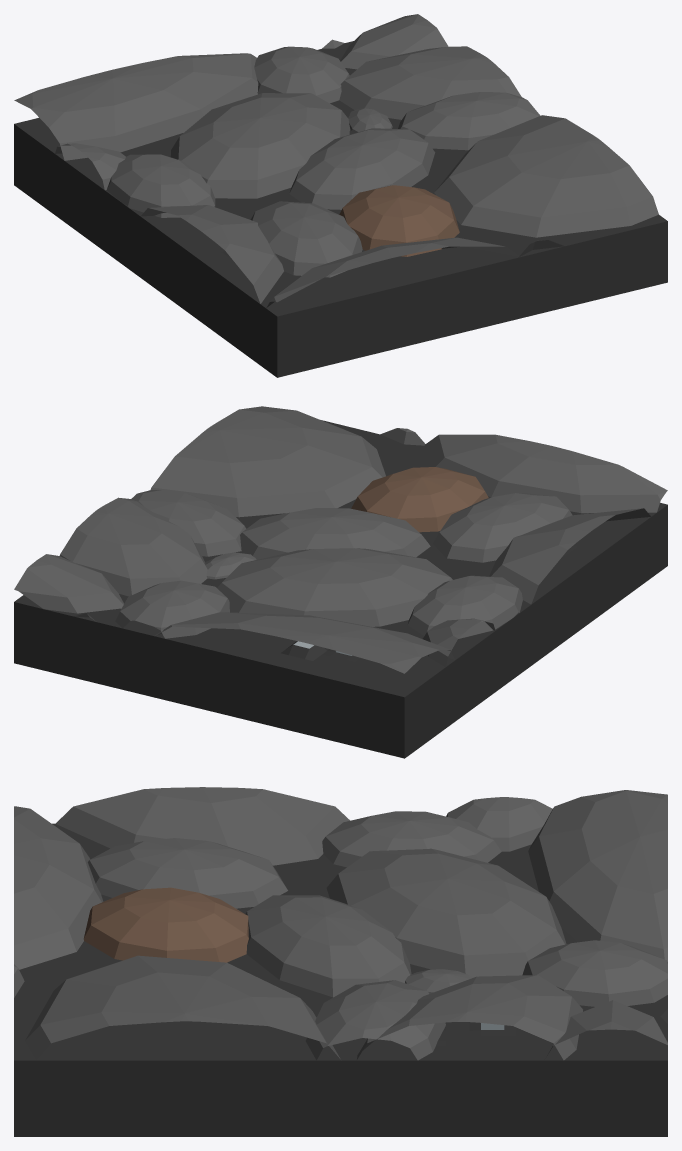
3 renders of one model, top to bottom at view 1: azimuth 30°, elevation 25°; view 2: azimuth 150°, elevation 25°; view 3: azimuth 270°, elevation 25°, orthographic. The views are drawn at different scales.
Visible parts, largest first — view 1: shapesz-t152; view 2: shapesz-t152; view 3: shapesz-t152.
Boxes of the visible parts, bbox=[...] form: shapesz-t152: bbox=[14, 14, 667, 377]; shapesz-t152: bbox=[14, 406, 667, 758]; shapesz-t152: bbox=[14, 787, 667, 1136].
Bounding box in the file's own units: 2 × 0.458 × 2.33.
